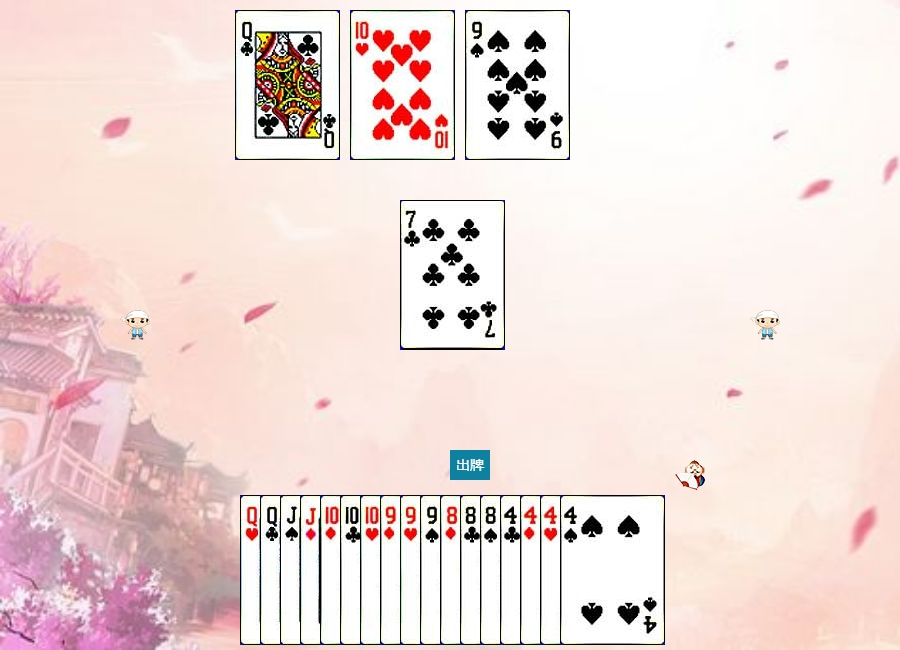10~1: (320, 495, 425, 645)
10~2: (340, 495, 445, 645)
10~3: (350, 10, 455, 160), (360, 495, 465, 645)
11~1: (300, 495, 405, 645)
11~4: (280, 495, 385, 645)
12~2: (235, 10, 340, 160), (260, 495, 365, 645)
12~3: (240, 495, 345, 645)
4~1: (520, 495, 625, 645)
4~2: (500, 495, 605, 645)
4~3: (540, 495, 645, 645)
4~4: (560, 495, 665, 645)
7~2: (400, 200, 505, 350)
8~1: (440, 495, 545, 645)
8~2: (460, 495, 565, 645)
8~4: (480, 495, 585, 645)
9~1: (380, 495, 485, 645)
9~3: (400, 495, 505, 645)
9~4: (465, 10, 570, 160), (420, 495, 525, 645)
